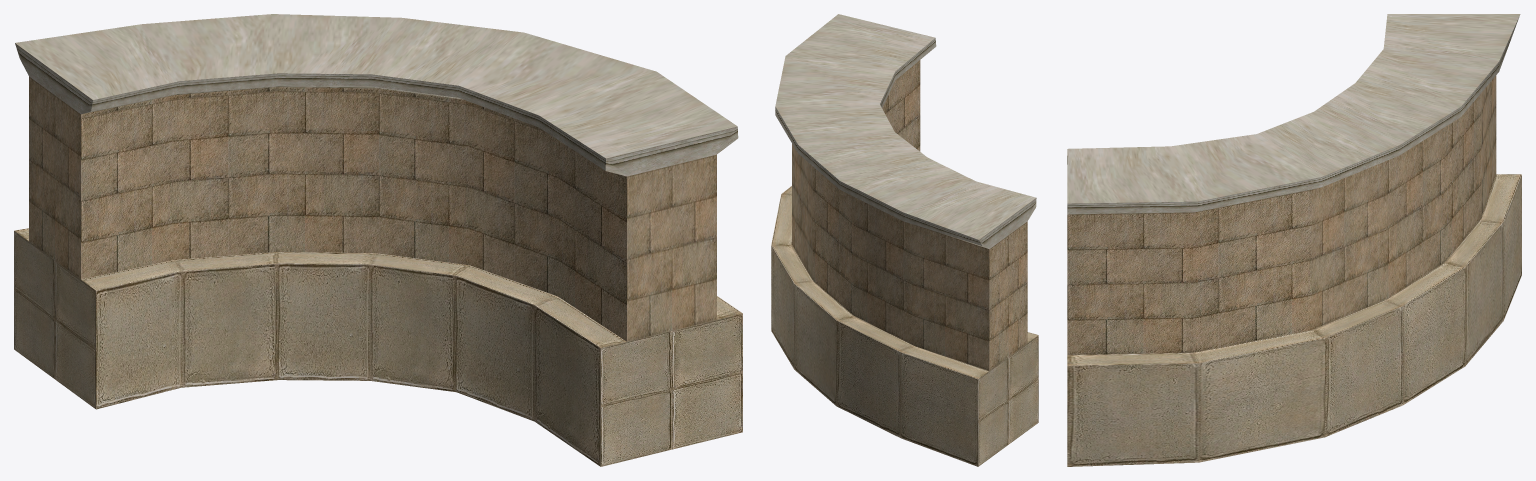
File: thm_nboo_imprv_tall_curved_wall_small_s01_l0.fbx
3 views of the same model, side by side, from view 1: azimuth 30°, elevation 25°; view 2: azimuth 150°, elevation 25°; view 3: azimuth 270°, elevation 25° (orthographic). The views are drawn at different scales.
Visible parts, largest first — view 1: mesh_node; view 2: mesh_node; view 3: mesh_node.
Part boxes in pixels (x1=…): mesh_node: x1=14, y1=14, x2=742, y2=466; mesh_node: x1=771, y1=14, x2=1038, y2=466; mesh_node: x1=1067, y1=14, x2=1521, y2=466.
Size of the model in its own units: 4.73 by 3 by 4.73.
